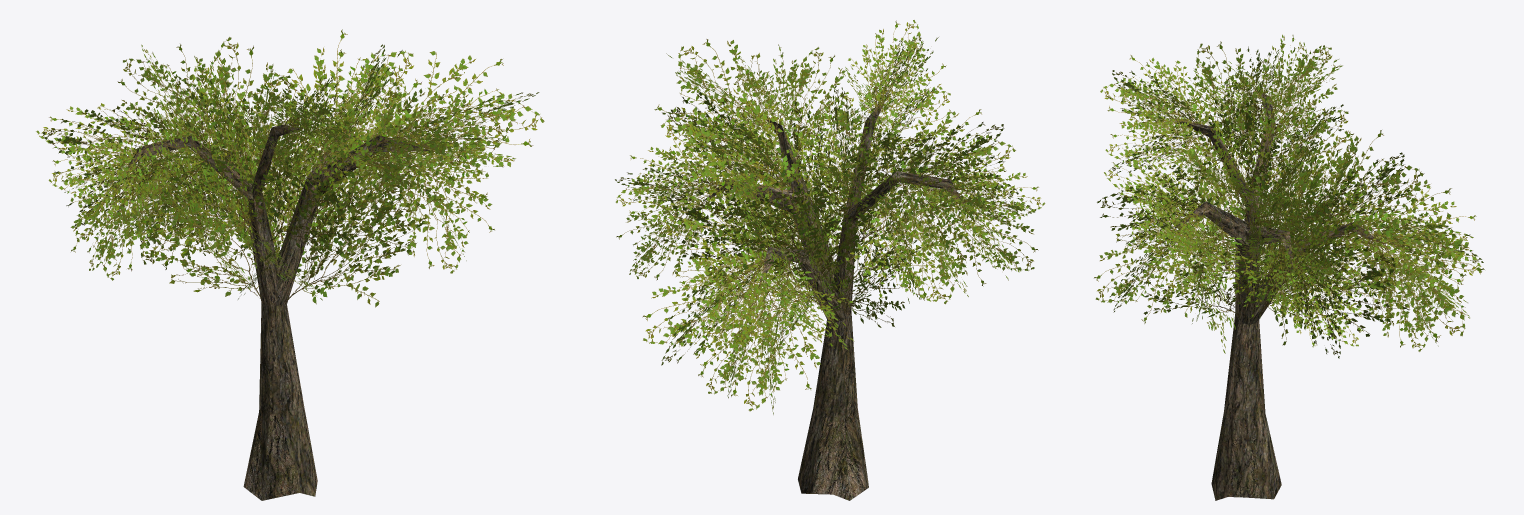
Rendered from massive_swamptree_01_a.obj.
The picture shows the model from 3 angles, left to right: view 1: azimuth 30°, elevation 25°; view 2: azimuth 150°, elevation 25°; view 3: azimuth 270°, elevation 25°; orthographic projection. The views are drawn at different scales.
Parts seen in each view (by area): view 1: swamptree128, swamptree128.001; view 2: swamptree128, swamptree128.001, swamptree128.002; view 3: swamptree128, swamptree128.001, swamptree128.002.
Boxes of the visible parts, box(x1,y1,x2,y2) form: swamptree128: box(36, 29, 544, 307); swamptree128.001: box(117, 125, 429, 500); swamptree128: box(615, 20, 1045, 414); swamptree128.001: box(703, 94, 965, 500); swamptree128.002: box(642, 258, 772, 368); swamptree128: box(1094, 34, 1484, 358); swamptree128.001: box(1172, 93, 1378, 500); swamptree128.002: box(1358, 233, 1469, 318).
Bounding box in the file's own units: 24.2 × 22.24 × 19.88.
Materials: 1 (1 with a texture image).
